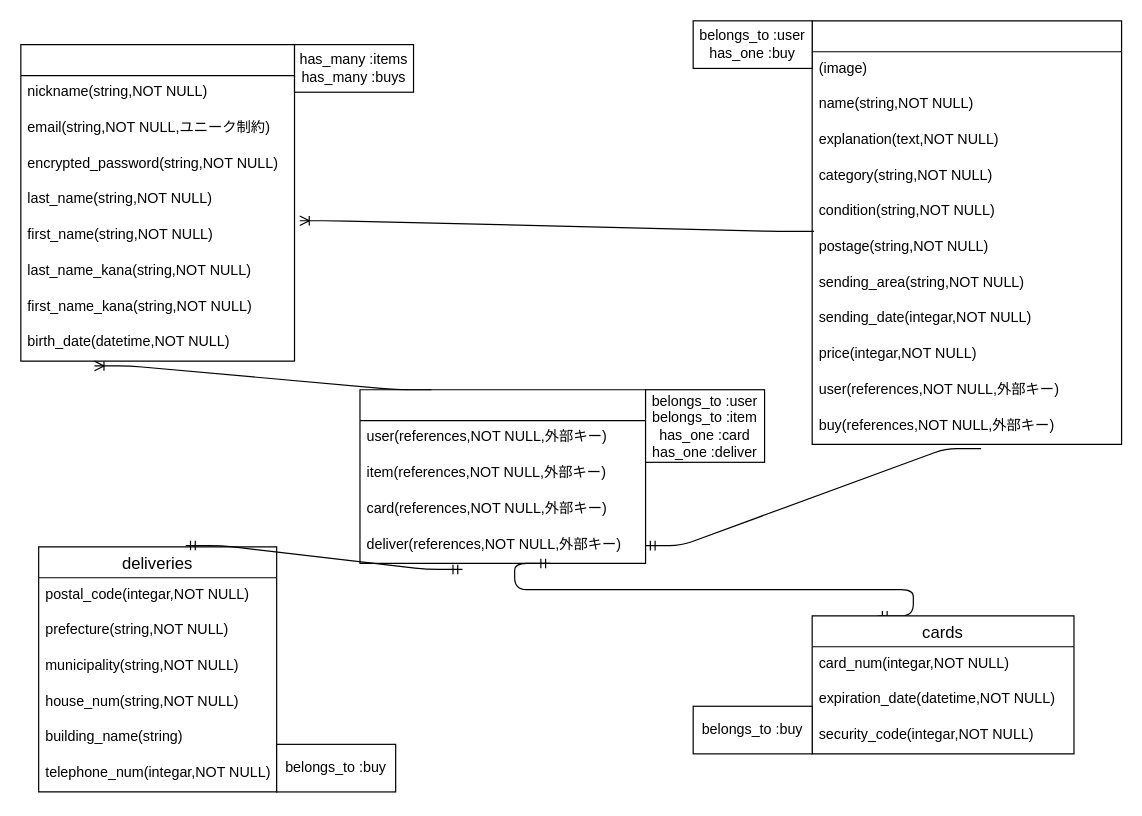
The diagram is 1142 pixels wide and 816 high, and some of its shapes have lost their labels. Each missing label, with the box of its shape:
buys: (359, 389, 646, 563)
items: (811, 20, 1122, 444)
users: (20, 43, 295, 361)
